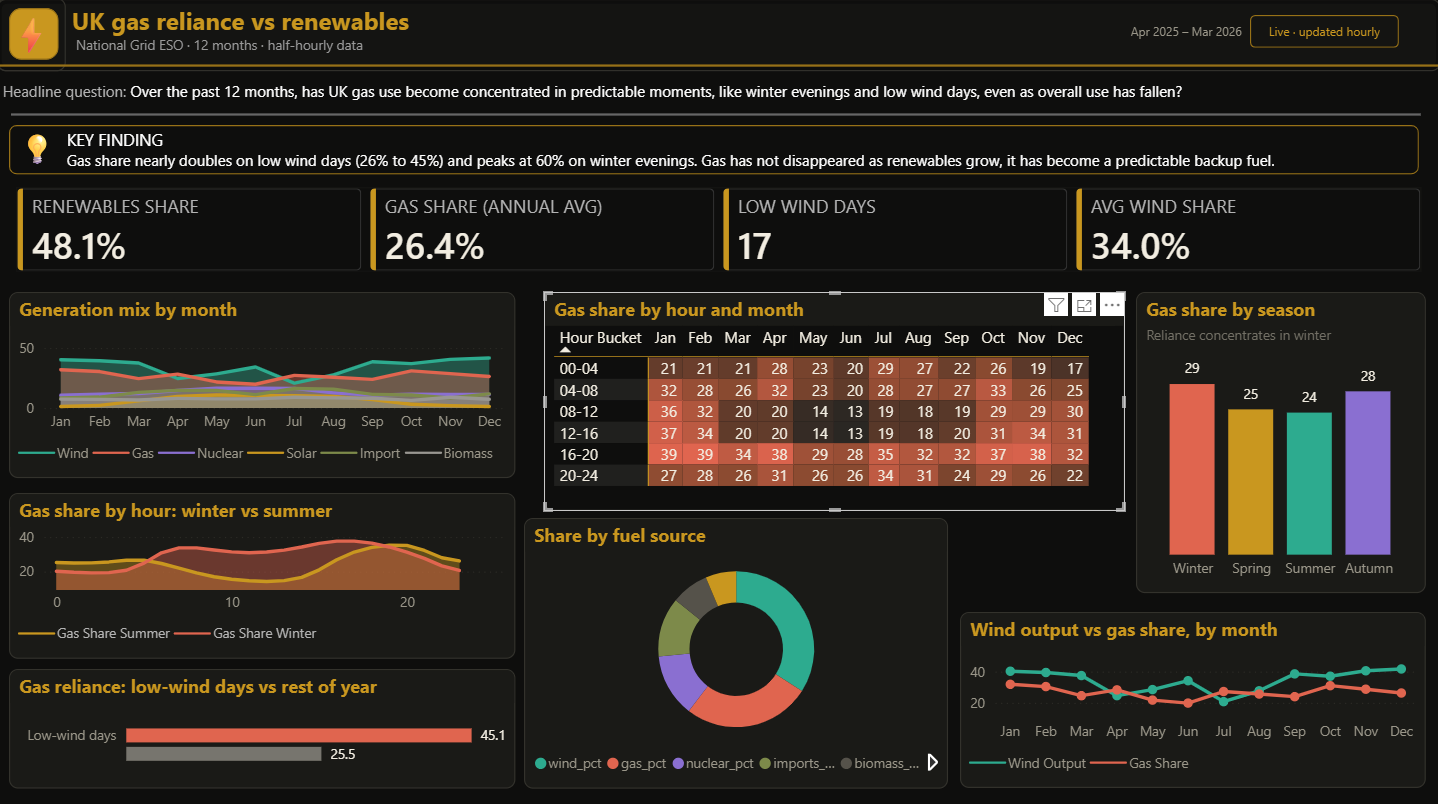

This screenshot's page, from the dashboard's own definition file:
{"tool":"powerbi","page":{"name":"Page 1","canvas":[1280,720],"ordinal":0},"visuals":[{"type":"clusteredBarChart","title":"Gas reliance: low-wind days vs rest of year","fields":{"Y":["uk_energy_generation_mix.Avg Gas Share"],"Category":["uk_energy_generation_mix.day label"]},"box":[10.3,594.6,449.5,105.8],"z":1},{"type":"clusteredColumnChart","title":"Gas share by season","fields":{"Category":["uk_energy_generation_mix.season"],"Y":["uk_energy_generation_mix.Avg Gas Share"]},"box":[1010,260.7,257.1,266.9],"z":2},{"type":"cardVisual","fields":{"Data":["uk_energy_generation_mix.Avg Renewables Share %","uk_energy_generation_mix.Avg Gas Share %","uk_energy_generation_mix.Low Wind Day Count","uk_energy_generation_mix.Avg Wind Share %"]},"box":[0,150.8,1280,109.6],"z":3},{"type":"pivotTable","title":"Gas share by hour and month","fields":{"Rows":["uk_energy_generation_mix.Hour Bucket"],"Columns":["uk_energy_generation_mix.month"],"Values":["uk_energy_generation_mix.Avg Gas Share"]},"box":[485,260.7,515.2,194.2],"z":5},{"type":"donutChart","title":"Share by fuel source","fields":{"Category":["uk_energy_generation_mix (2).Fuel Type"],"Y":["Avg(uk_energy_generation_mix (2).Fuel_pct)"]},"box":[467.2,460.7,376.4,239.7],"z":6},{"type":"lineChart","title":"Gas share by hour: winter vs summer","fields":{"Y":["uk_energy_generation_mix.Gas Share Summer","uk_energy_generation_mix.Gas Share Winter"],"Category":["uk_energy_generation_mix.hour"]},"box":[10.3,439.2,449.5,147],"z":7},{"type":"areaChart","title":"Generation mix by month","fields":{"Category":["uk_energy_generation_mix.month"],"Y":["Avg(uk_energy_generation_mix.wind_pct)","Avg(uk_energy_generation_mix.gas_pct)","Avg(uk_energy_generation_mix.nuclear_pct)","Avg(uk_energy_generation_mix.solar_pct)","Avg(uk_energy_generation_mix.imports_pct)","Avg(uk_energy_generation_mix.biomass_pct)"]},"box":[10.6,260.7,448.7,164.9],"z":8},{"type":"lineChart","title":"Wind output vs gas share, by month","fields":{"Category":["uk_energy_generation_mix.month"],"Y":["uk_energy_generation_mix.Avg Wind Share","uk_energy_generation_mix.Avg Gas Share"]},"box":[854,544,412.9,156.4],"z":9},{"type":"shape","box":[0,0.9,1280,63.7],"z":11},{"type":"shape","box":[10.3,8.4,44,45.9],"z":13},{"type":"textbox","box":[0,0,61.2,64.7],"z":14},{"type":"textbox","box":[60.9,0,346.5,54.3],"z":16},{"type":"textbox","box":[60.9,27.2,307.1,27.2],"z":17},{"type":"shape","box":[0,50.6,1280,18.7],"z":18},{"type":"textbox","box":[1000,15,111.4,35.6],"z":19},{"type":"shape","box":[1111.5,15,132,29],"z":21},{"type":"textbox","box":[0,68.9,1280.1,33.8],"z":22},{"type":"shape","box":[10.6,112.5,1250.2,43.8],"z":23,"group":"g1"},{"type":"textbox","box":[12.5,110,55,53.2],"z":24,"group":"g1"},{"type":"group","id":"g1","title":"Group 1","box":[10.6,110,1250.2,53.2],"z":25},{"type":"shape","box":[12.4,96.7,1250.2,13.3],"z":26},{"type":"textbox","box":[56.8,110,1195.3,47.3],"z":26,"group":"g1"}]}

Visuals, with their boxes in screenshot pixels (x1, y1, x2, y2), scaled from the page's 1280x720 canvas onto the 1438x804 screenshot:
"Gas reliance: low-wind days vs rest of year" clusteredBarChart: 12,664,517,782
"Gas share by season" clusteredColumnChart: 1135,291,1424,589
cardVisual - uk_energy_generation_mix.Avg Renewables Share % x uk_energy_generation_mix.Avg Gas Share %: 0,168,1437,291
"Gas share by hour and month" pivotTable: 545,291,1124,508
"Share by fuel source" donutChart: 525,514,948,782
"Gas share by hour: winter vs summer" lineChart: 12,490,517,655
"Generation mix by month" areaChart: 12,291,516,475
"Wind output vs gas share, by month" lineChart: 959,607,1423,782
shape: 0,1,1437,72
shape: 12,9,61,61
textbox: 0,0,69,72
textbox: 68,0,458,61
textbox: 68,30,413,61
shape: 0,57,1437,77
textbox: 1123,17,1249,57
shape: 1249,17,1397,49
textbox: 0,77,1437,115
shape: 12,126,1416,175
textbox: 14,123,76,182
"Group 1" group: 12,123,1416,182
shape: 14,108,1418,123
textbox: 64,123,1407,176
